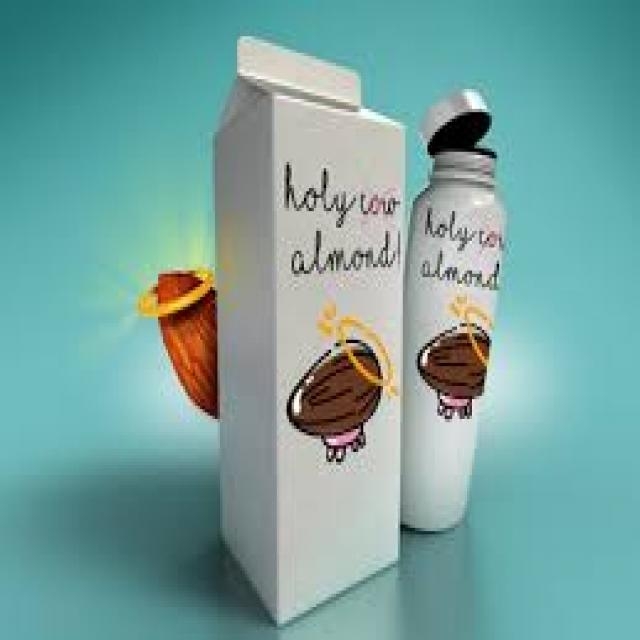non_white_jug: (203, 18, 420, 625)
